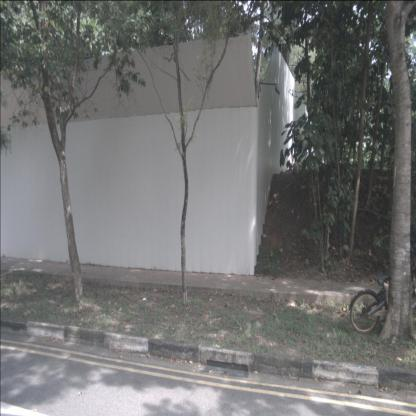vehicle-bicycle: (349, 239, 415, 338)
